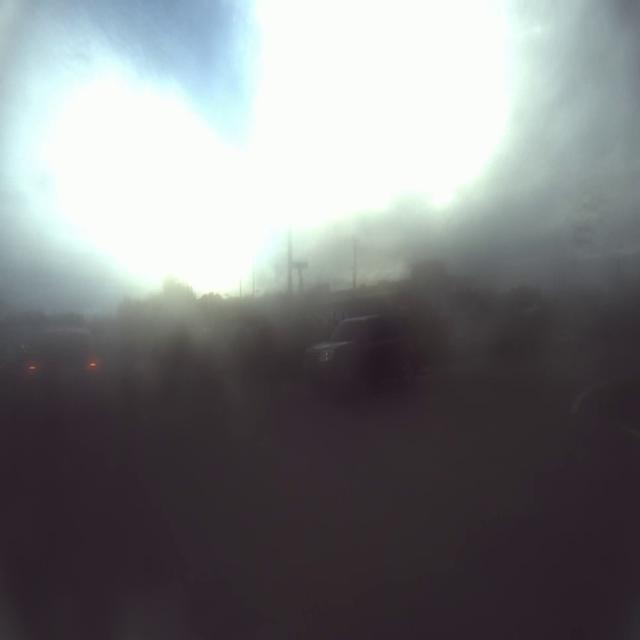car: (14, 317, 104, 418)
